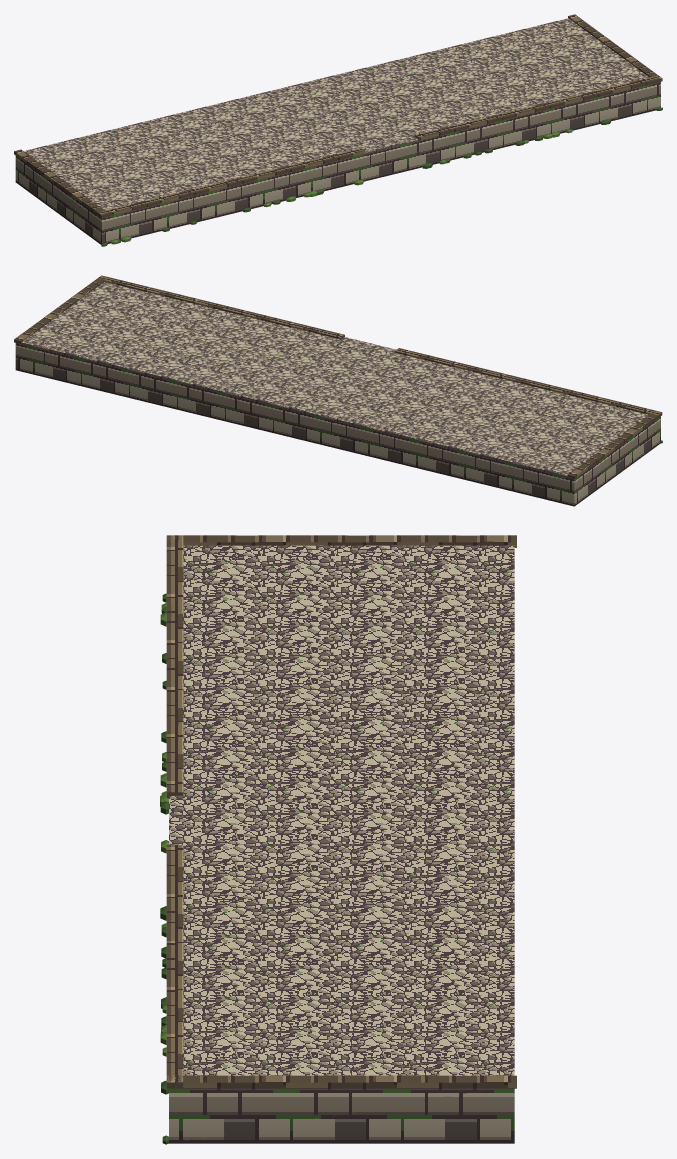
Rendered from scene_terrace_front.glb.
3 renders of one model, top to bottom at view 1: azimuth 30°, elevation 25°; view 2: azimuth 150°, elevation 25°; view 3: azimuth 270°, elevation 25°, orthographic. The views are drawn at different scales.
Parts seen in each view (by area): view 1: scene_terrace_front; view 2: scene_terrace_front; view 3: scene_terrace_front.
Part boxes in pixels (x1,y1,x2,y2): scene_terrace_front: (14,14,662,246); scene_terrace_front: (14,275,662,506); scene_terrace_front: (160,535,516,1144).
Bounding box in the file's own units: 28.13 × 1.57 × 7.74.
Materials: 3 (2 with a texture image).
